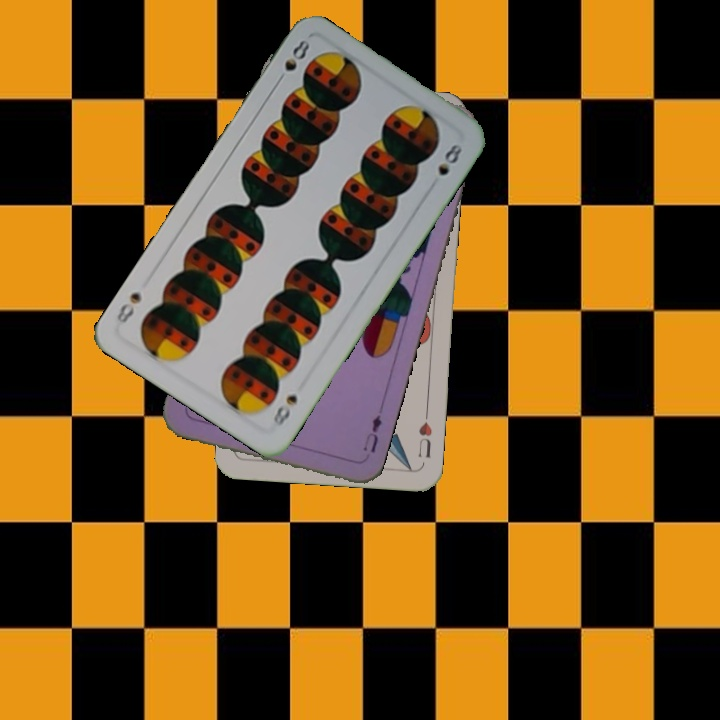EU: (359, 410, 385, 456)
HU: (414, 407, 435, 460)
S8: (272, 34, 313, 88), (269, 391, 300, 429)
